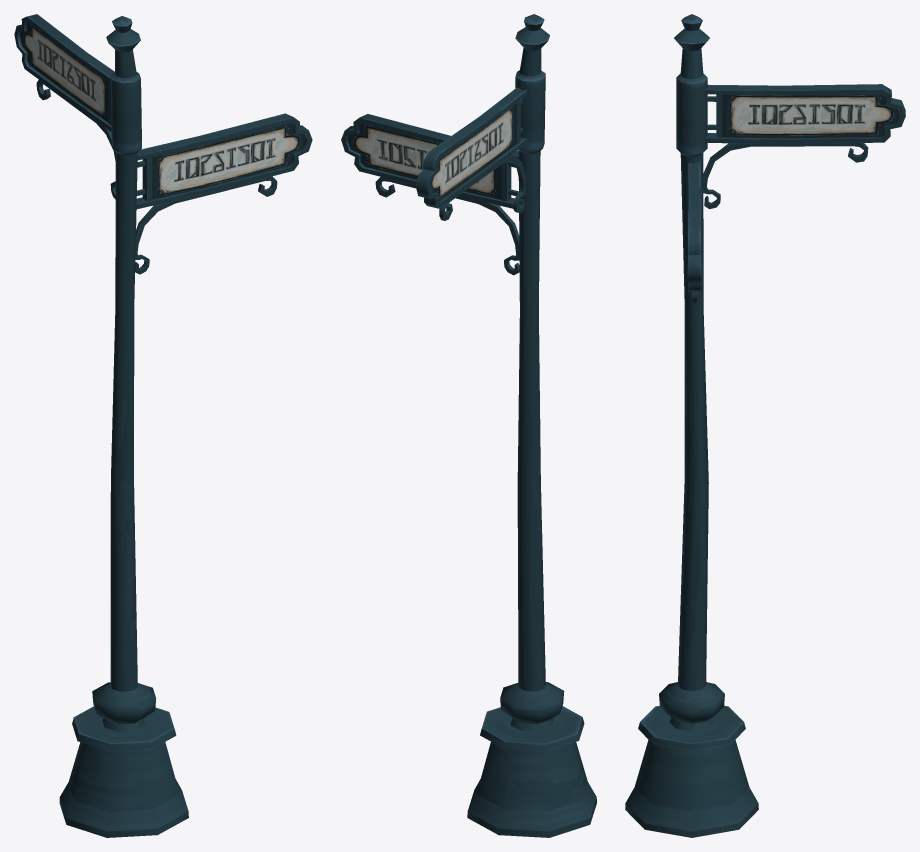
Rendered from P_PROP_streetsign_city_02.fbx.
3 renders of one model, left to right at view 1: azimuth 30°, elevation 25°; view 2: azimuth 150°, elevation 25°; view 3: azimuth 270°, elevation 25°, orthographic.
Visible parts, largest first — view 1: P_PROP_streetsign_city_02; view 2: P_PROP_streetsign_city_02; view 3: P_PROP_streetsign_city_02.
Boxes of the visible parts, x1,y1,x2,y2 form: P_PROP_streetsign_city_02: (14, 14, 312, 837); P_PROP_streetsign_city_02: (341, 14, 596, 837); P_PROP_streetsign_city_02: (625, 14, 905, 837).
Size of the model in its own units: 105 by 328 by 105.
1 material, 1 textured.
